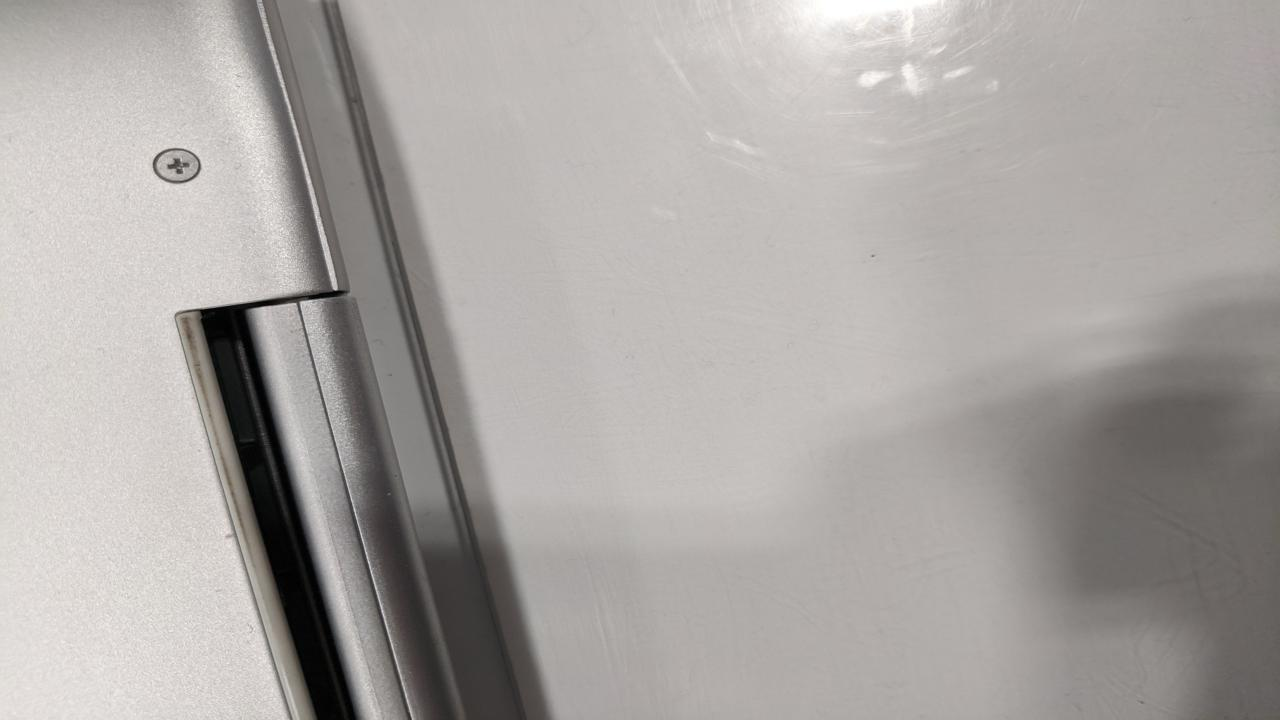CRS: (151, 148, 209, 185)
